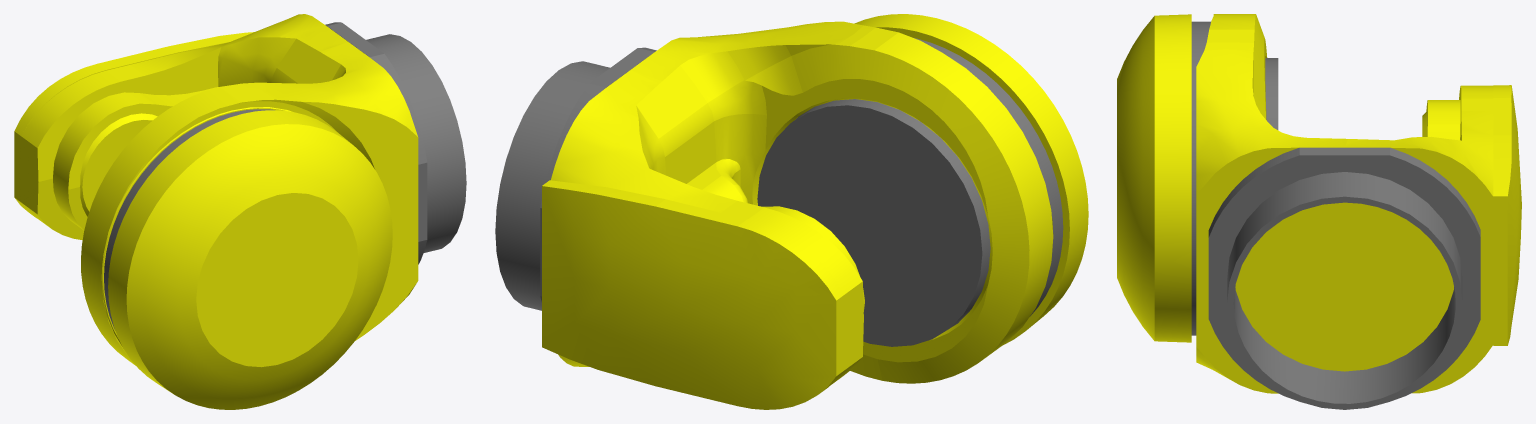
3 renders of one model, left to right at view 1: azimuth 30°, elevation 25°; view 2: azimuth 150°, elevation 25°; view 3: azimuth 270°, elevation 25°, orthographic. The views are drawn at different scales.
Visible parts, largest first — view 1: Mesh_0; view 2: Mesh_0; view 3: Mesh_0.
Part boxes in pixels (<box>): Mesh_0: <box>14,14,466,409</box>; Mesh_0: <box>495,14,1088,409</box>; Mesh_0: <box>1117,14,1521,409</box>.
Size of the model in its own units: 0.3144 by 0.277 by 0.2302.
